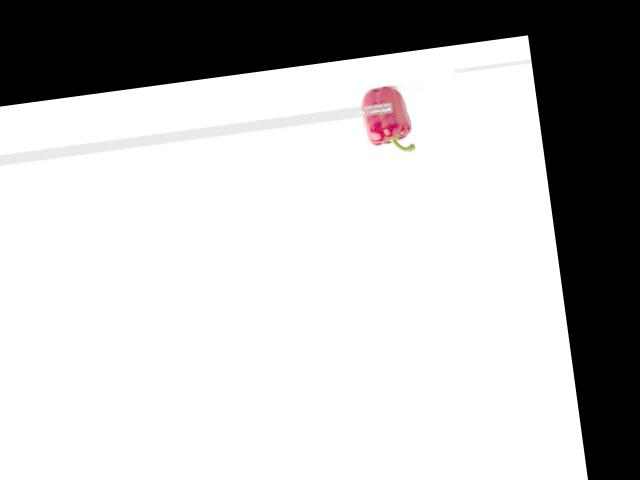bell_pepper: (355, 84, 422, 161)
